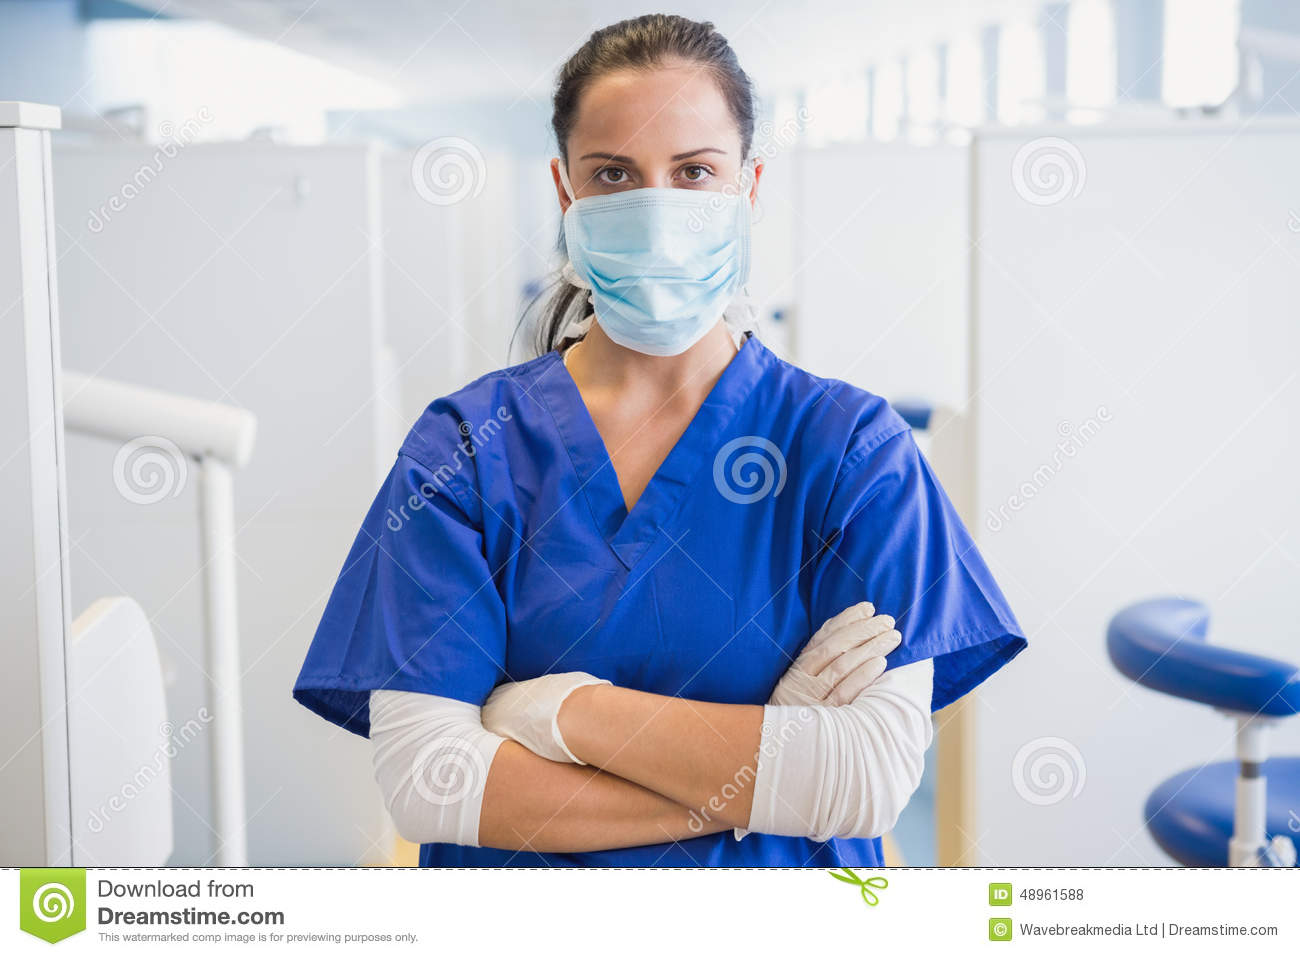mask: (567, 188, 758, 355)
